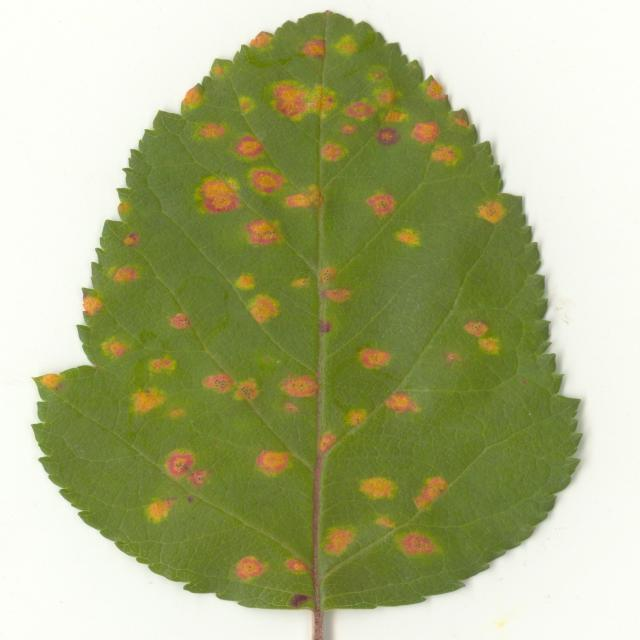Gymnosporangium_Rusts: (30, 10, 584, 635)
